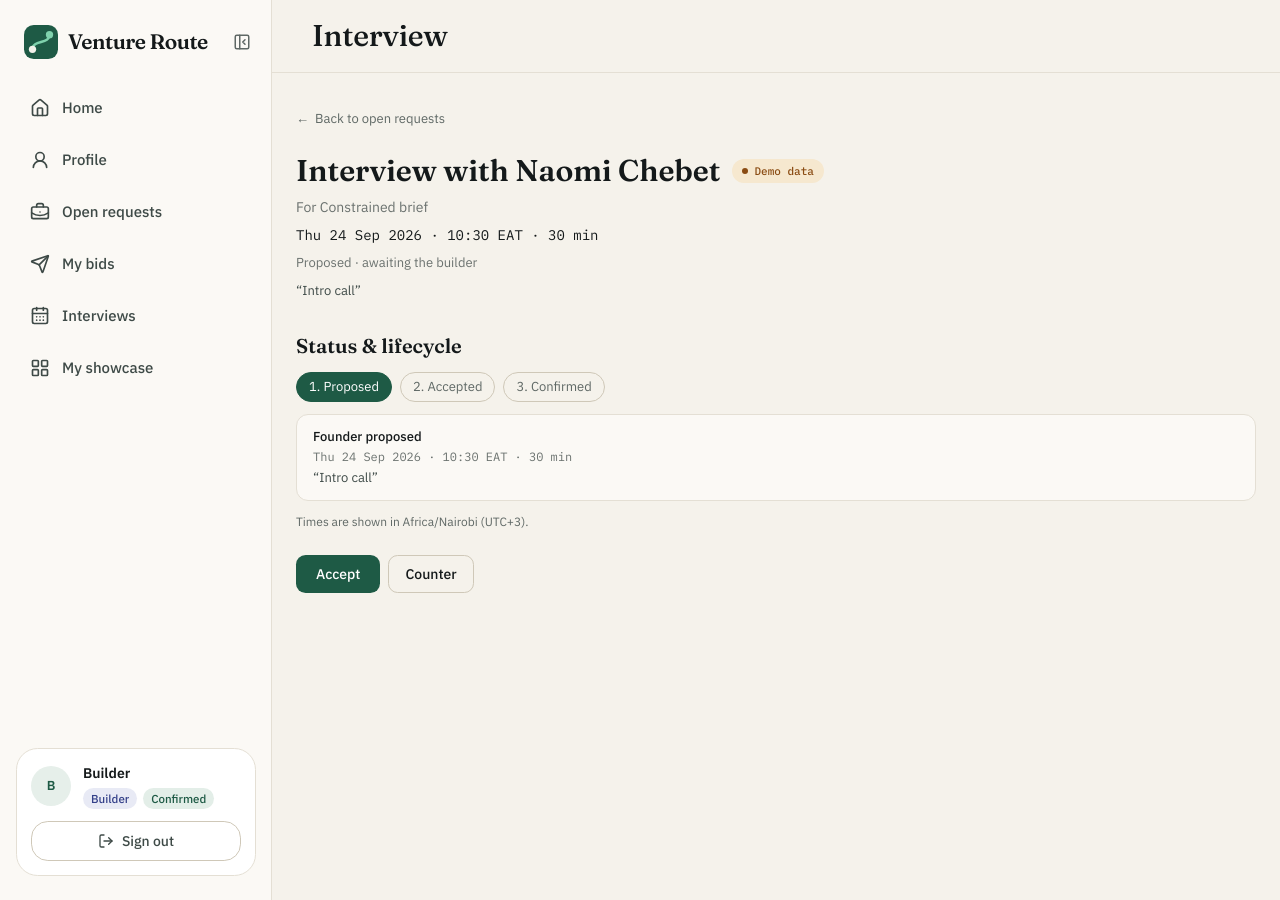
/bookings/:id transitions › Counter reuses the slot picker and posts the counter proposal
This screenshot has width=1280, height=900.
Check: the heading "Interview with Naomi Chebet" is shown, box [296,153,720,189]
Click the button "Counter" at (431, 574), box [388,554,474,592]
(page scrolled)
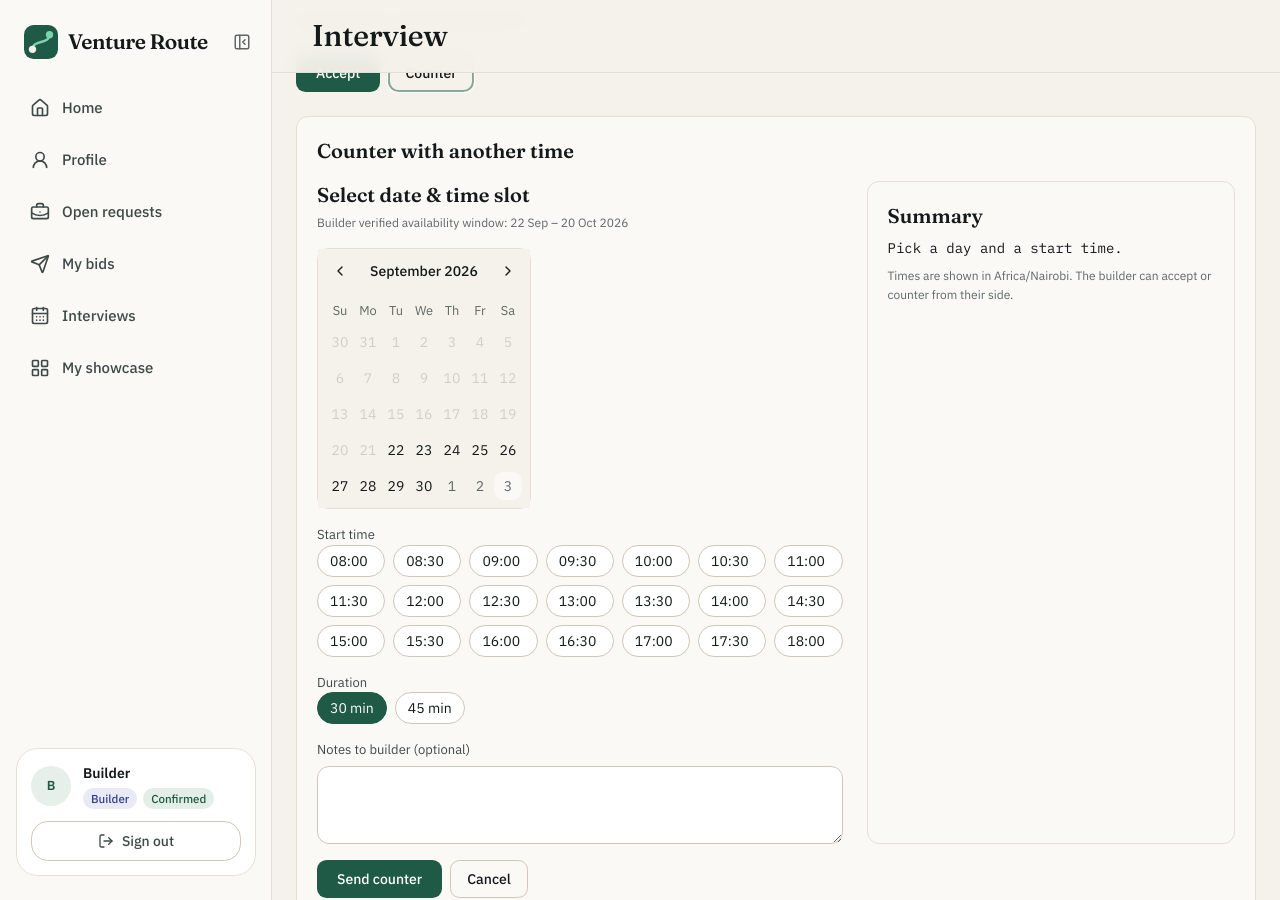
Click the button named "September 25th, 2026" at (480, 450), box [466,436,494,464]
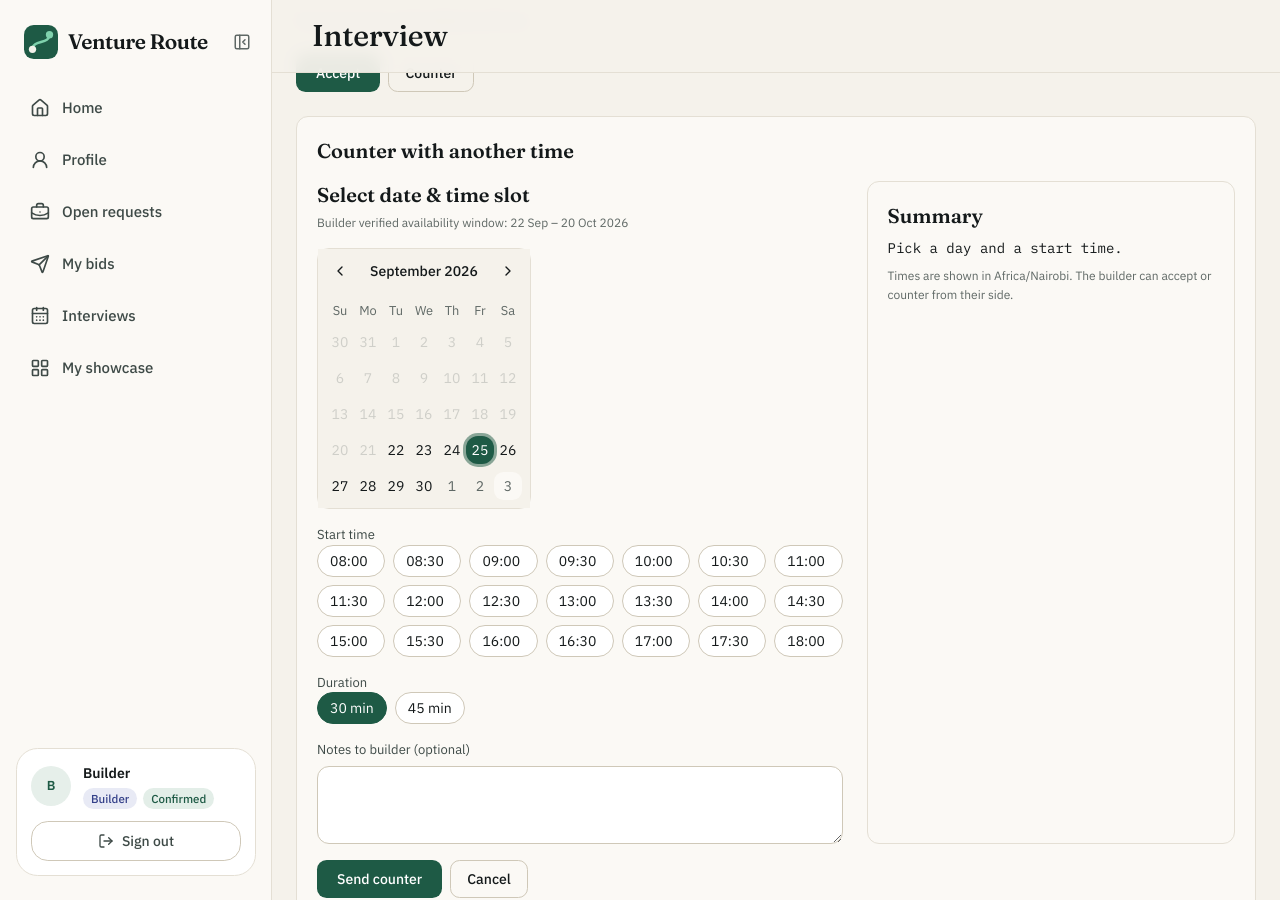
Click the radio button named "09:00 EAT" at (504, 561), box [469,545,538,577]
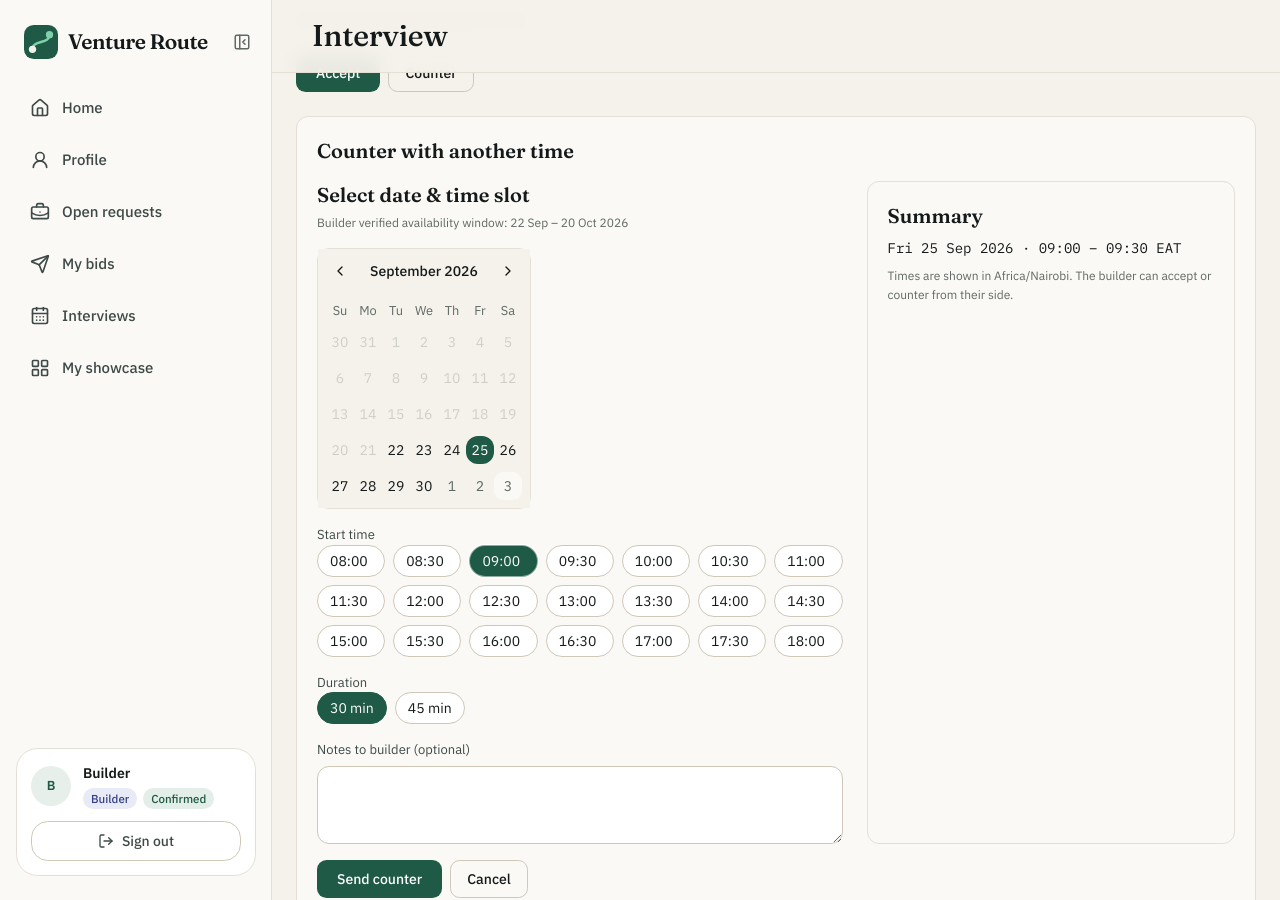
Click the radio button labelled "45 min" at (430, 708), box [395,692,465,724]
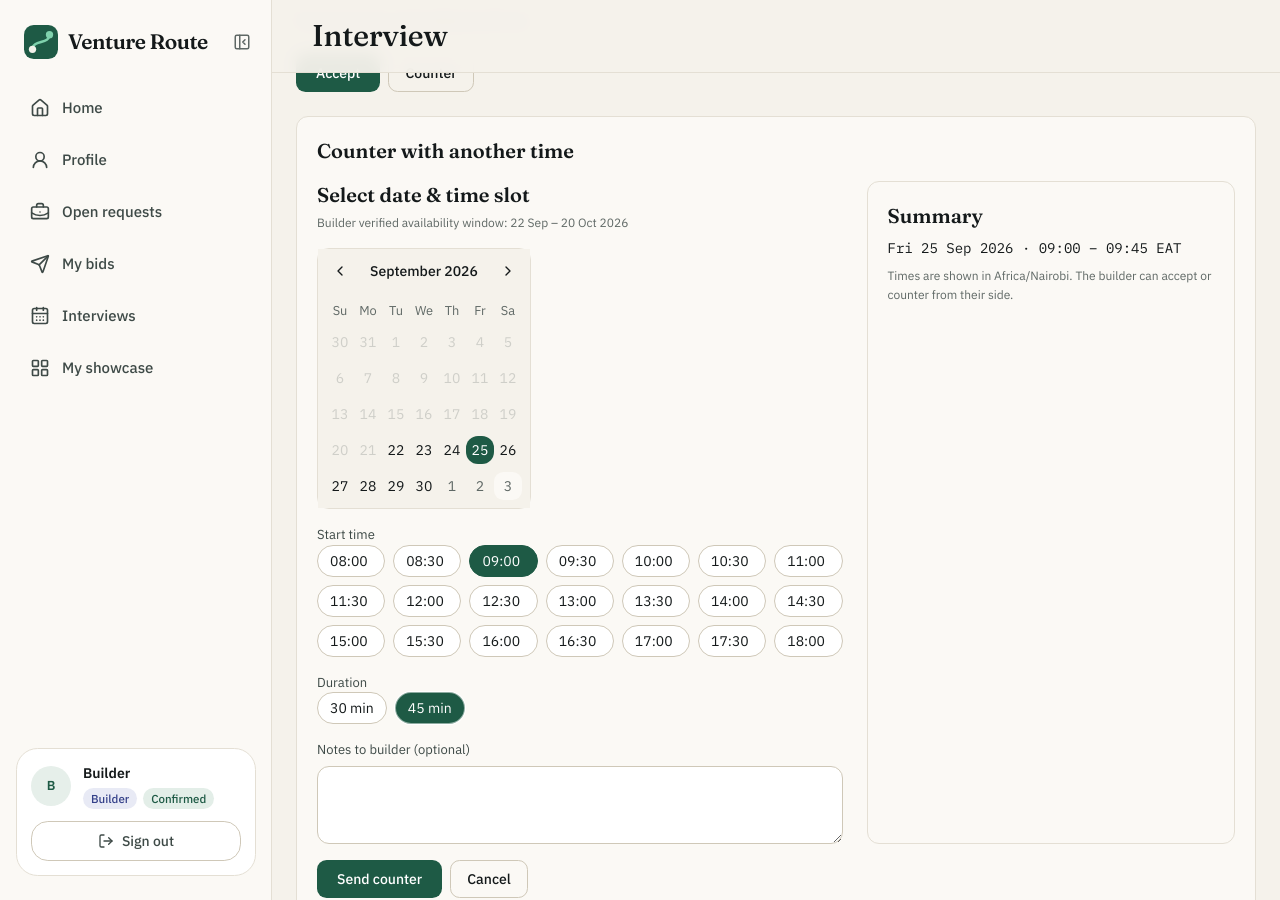
Type "Morning suits me" into the text box labelled "Notes to builder (optional)" at (580, 805), box [317,766,842,844]
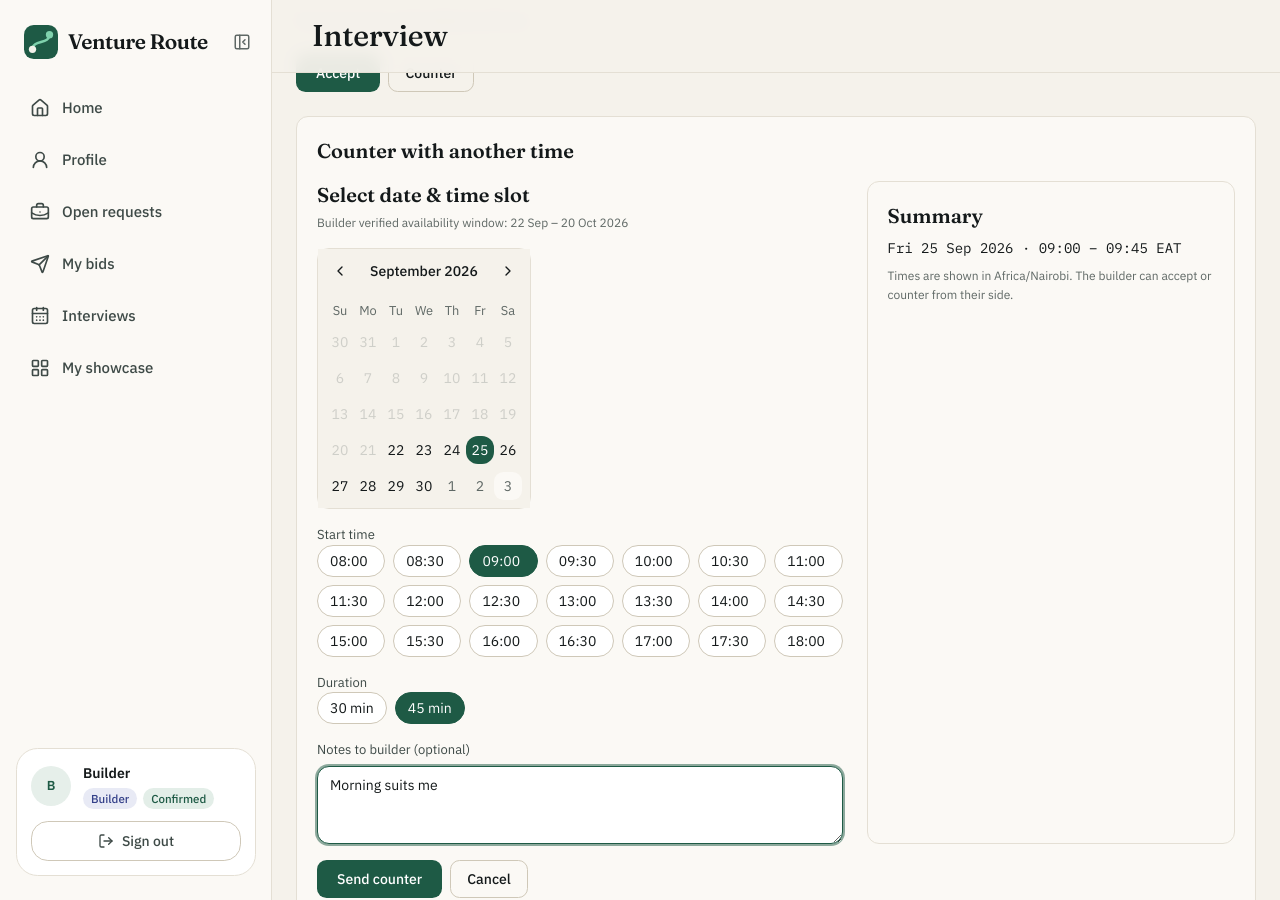
Click the button "Send counter" at (380, 879), box [317,860,442,898]
(page scrolled)
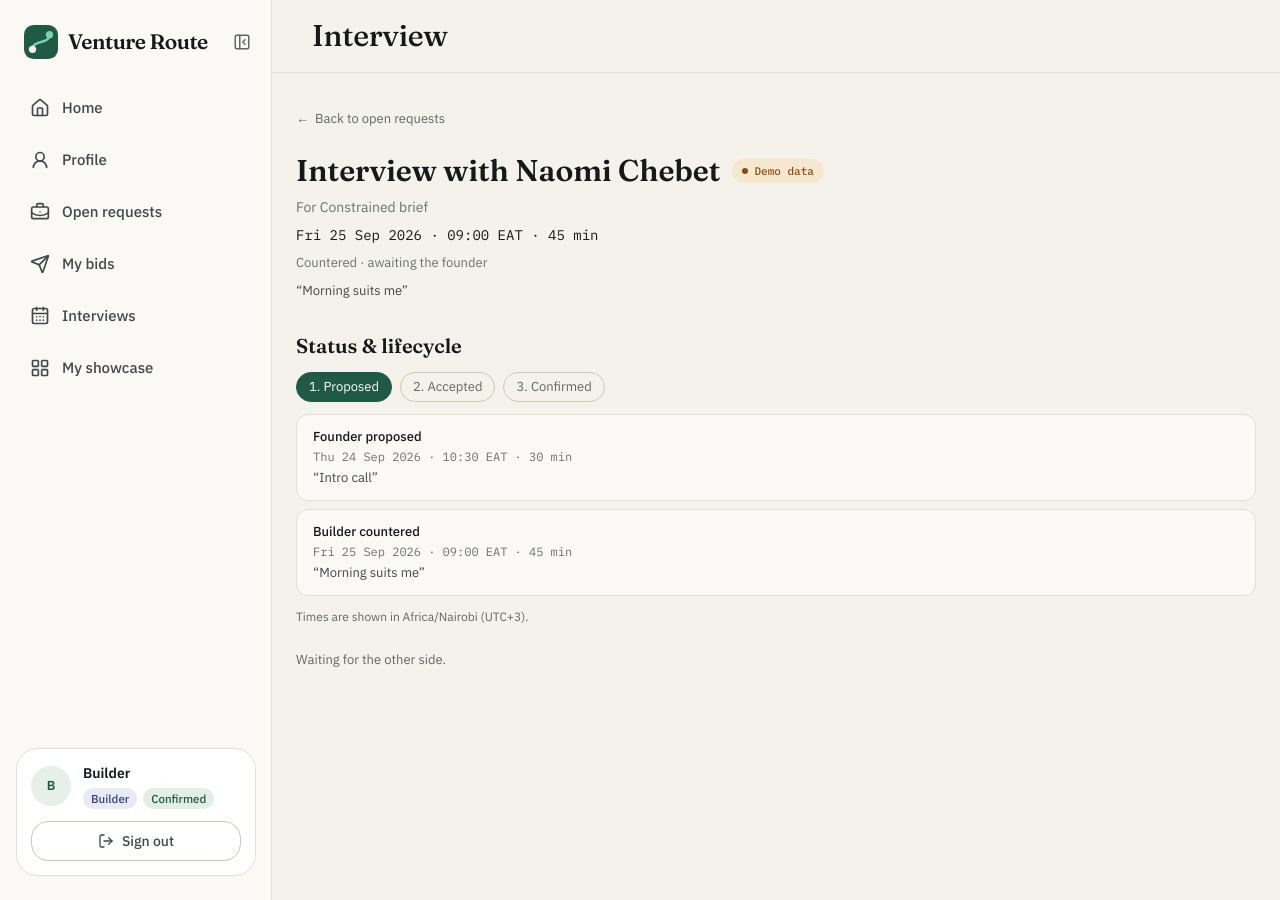
Check: the text "Countered · awaiting the founder" is shown, box [296,254,487,271]
